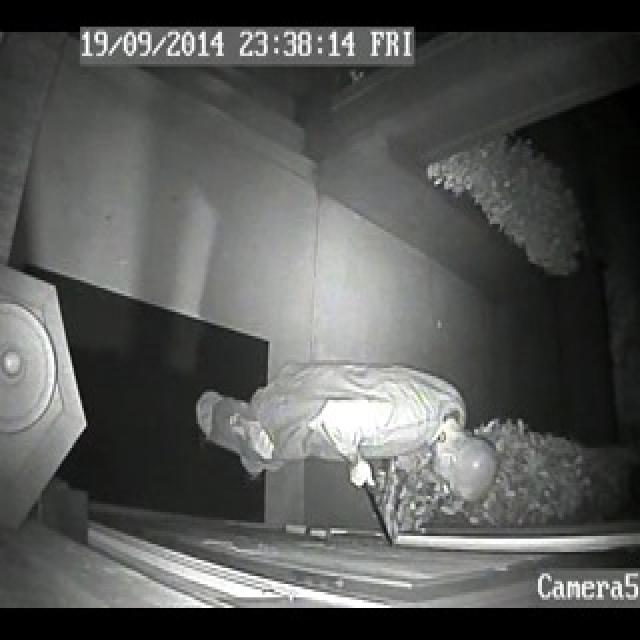burglary: (253, 394, 491, 606)
